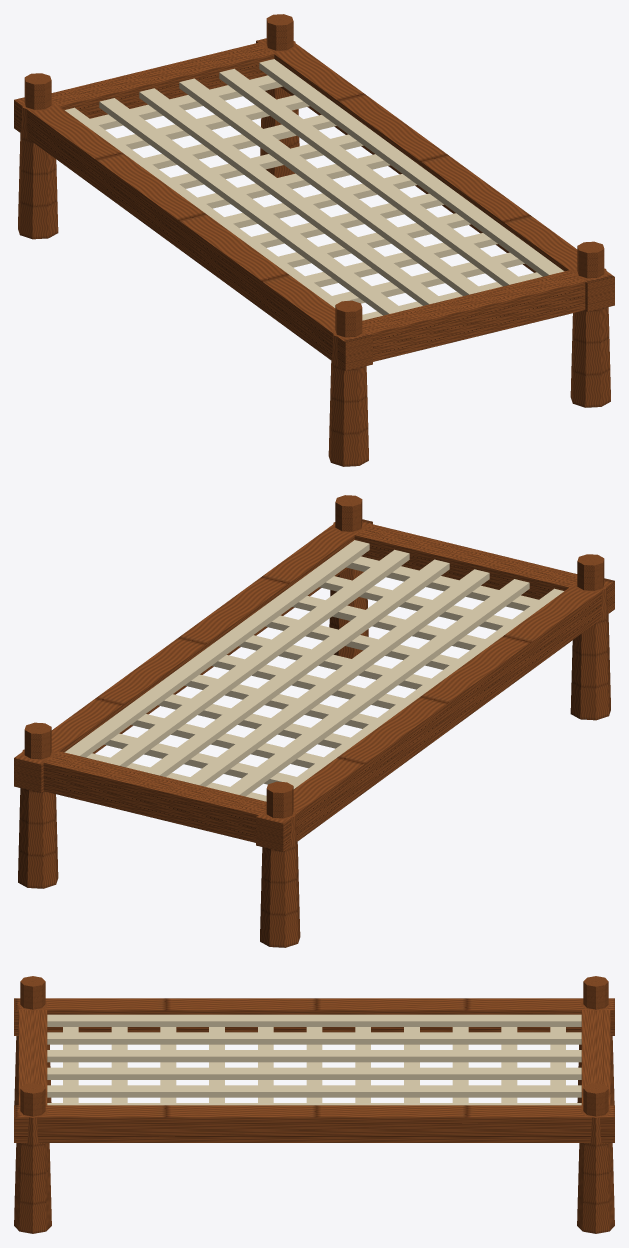
Rendered from indian-bazaar-street-and-temple-charpoy-73c93e64__36568.glb.
3 renders of one model, top to bottom at view 1: azimuth 30°, elevation 25°; view 2: azimuth 150°, elevation 25°; view 3: azimuth 270°, elevation 25°, orthographic. The views are drawn at different scales.
Parts seen in each view (by area): view 1: charpoy-timber, charpoy-jute; view 2: charpoy-timber, charpoy-jute; view 3: charpoy-timber, charpoy-jute.
Boxes of the visible parts, x1,y1,x2,y2 form: charpoy-timber: (14, 14, 614, 466); charpoy-jute: (65, 59, 564, 320); charpoy-timber: (14, 495, 614, 947); charpoy-jute: (64, 540, 563, 801); charpoy-timber: (14, 976, 614, 1233); charpoy-jute: (47, 1014, 581, 1105).
Size of the model in its own units: 0.9199 by 0.4799 by 1.9.
Materials: 2 (1 with a texture image).
